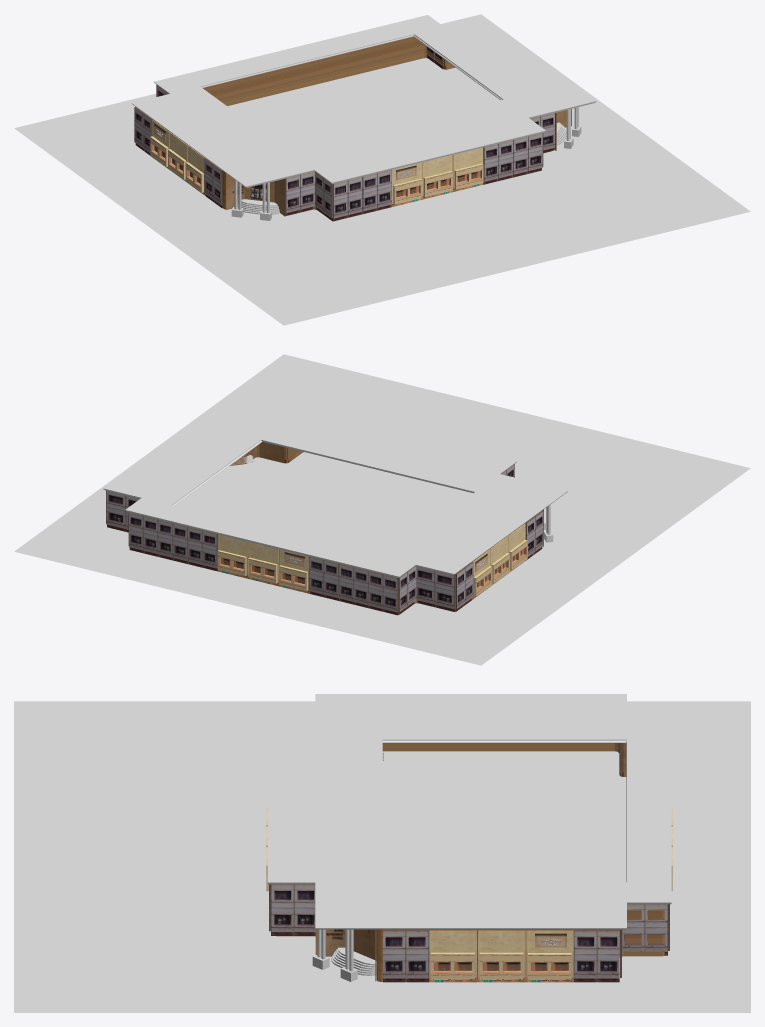
The model's file is DOMS_BAKED_FINAL_Final.fbx.
The picture shows the model from 3 angles, top to bottom: view 1: azimuth 30°, elevation 25°; view 2: azimuth 150°, elevation 25°; view 3: azimuth 270°, elevation 25°; orthographic projection. The views are drawn at different scales.
Visible parts, largest first — view 1: Plane.002, Plane.001, Plane, Screenshot 2025-03-31 011104.001, Screenshot 2025-03-31 011104.002, Screenshot 2025-03-31 011104, Screenshot 2025-03-31 011104.011, Screenshot 2025-03-31 011104.010, Screenshot 2025-03-31 003801.006, Screenshot 2025-03-31 003801.014, Screenshot 2025-03-31 003801.015, Screenshot 2025-03-31 003801 (+7 smaller); view 2: Plane.002, Plane.001, Screenshot 2025-03-31 011104.005, Screenshot 2025-03-31 011104.004, Plane, Screenshot 2025-03-31 011104.003, Screenshot 2025-03-31 003801.025, Screenshot 2025-03-31 003801.018, Screenshot 2025-03-31 003801.024, Screenshot 2025-03-31 011104.010, Screenshot 2025-03-31 011104.011, Screenshot 2025-03-31 011104.009 (+12 smaller); view 3: Plane.002, Plane.001, Plane, Screenshot 2025-03-31 011104.007, Screenshot 2025-03-31 011104.008, Screenshot 2025-03-31 011104.006, Screenshot 2025-03-31 003801.036, Screenshot 2025-03-31 003801.037, Screenshot 2025-03-31 003801.038, Screenshot 2025-03-31 003801.039, Screenshot 2025-03-31 003801.011, Screenshot 2025-03-31 003801.010 (+5 smaller).
Part boxes in pixels (x1,y1,x2,y2): Plane.002: (14,14,750,325); Plane.001: (131,15,596,187); Plane: (144,36,550,217); Screenshot 2025-03-31 011104.001: (422,155,452,199); Screenshot 2025-03-31 011104.002: (453,147,483,191); Screenshot 2025-03-31 011104: (391,162,422,206); Screenshot 2025-03-31 011104.011: (185,145,205,195); Screenshot 2025-03-31 011104.010: (168,132,187,182); Screenshot 2025-03-31 003801.006: (362,173,377,214); Screenshot 2025-03-31 003801.014: (498,140,513,181); Screenshot 2025-03-31 003801.015: (483,144,498,184); Screenshot 2025-03-31 003801: (285,175,300,215); Plane.002: (14,354,750,665); Plane.001: (103,405,567,577); Screenshot 2025-03-31 011104.005: (217,534,248,578); Screenshot 2025-03-31 011104.004: (248,542,278,585); Plane: (126,442,533,614); Screenshot 2025-03-31 011104.003: (279,549,309,593); Screenshot 2025-03-31 003801.025: (435,571,455,611); Screenshot 2025-03-31 003801.018: (106,491,126,531); Screenshot 2025-03-31 003801.024: (416,566,435,607); Screenshot 2025-03-31 011104.010: (490,536,509,586); Screenshot 2025-03-31 011104.011: (508,523,527,573); Screenshot 2025-03-31 011104.009: (472,549,492,599); Plane.002: (14,701,750,1012); Plane.001: (267,694,671,929); Plane: (276,743,664,981); Screenshot 2025-03-31 011104.007: (478,930,525,982); Screenshot 2025-03-31 011104.008: (429,930,476,982); Screenshot 2025-03-31 011104.006: (526,930,573,982); Screenshot 2025-03-31 003801.036: (597,930,619,982); Screenshot 2025-03-31 003801.037: (574,930,596,982); Screenshot 2025-03-31 003801.038: (383,930,405,982); Screenshot 2025-03-31 003801.039: (406,930,428,982); Screenshot 2025-03-31 003801.011: (271,884,293,935); Screenshot 2025-03-31 003801.010: (294,884,315,935).
Bounding box in the file's own units: 10224 × 852 × 10224.
10 materials, 5 textured.
